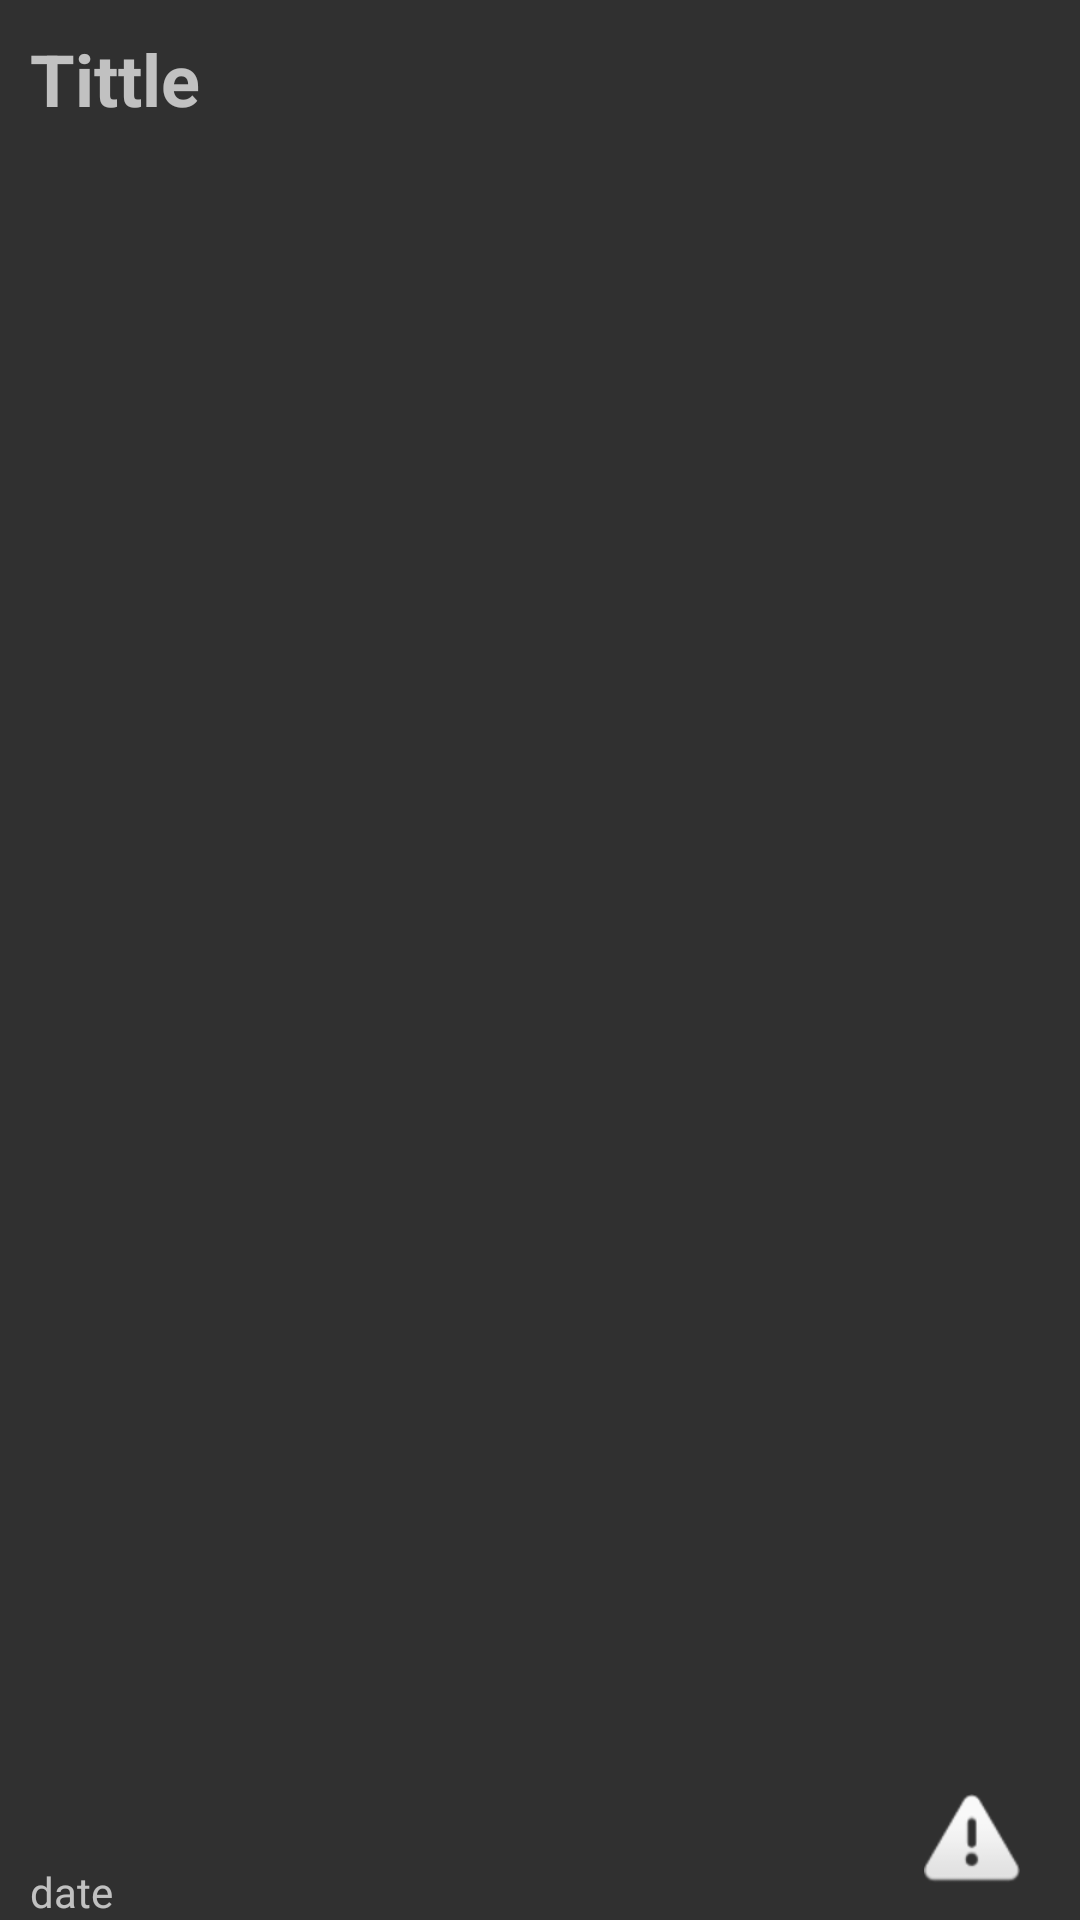

Locate icon controls on the screen. Image size 1080px x 1920px, boxes as rect(x1, y1, x2, y2).
alert: rect(924, 1794, 1020, 1881)
